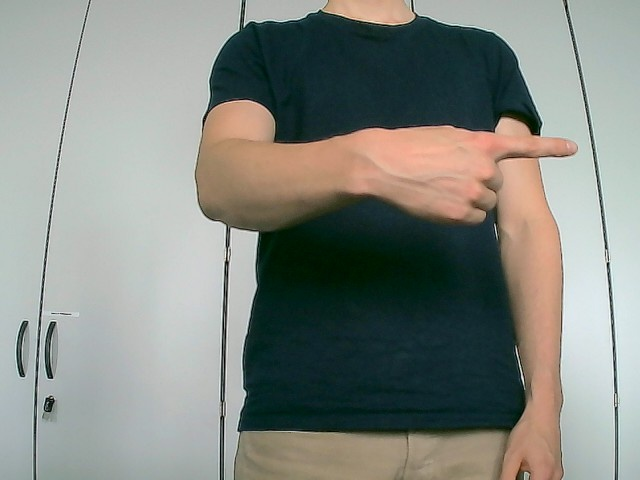left: (354, 122, 579, 227)
